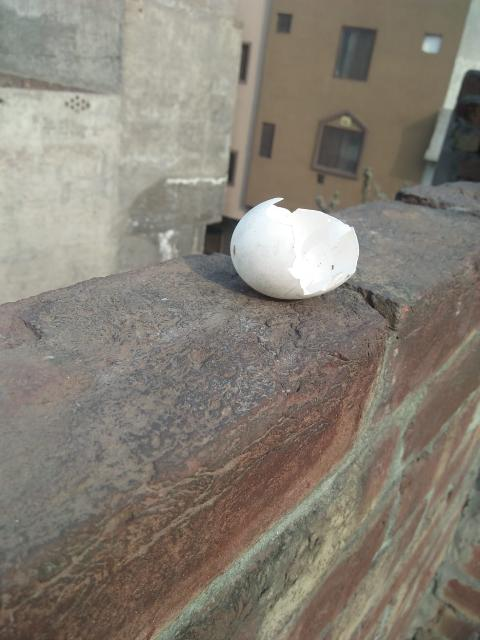Roto: (229, 196, 360, 300)
